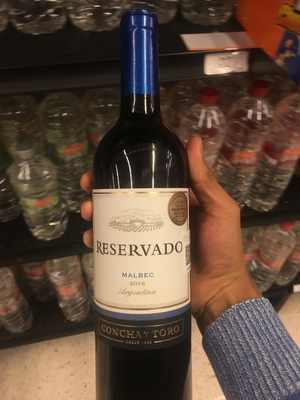reservado malbec: (86, 19, 194, 400)
